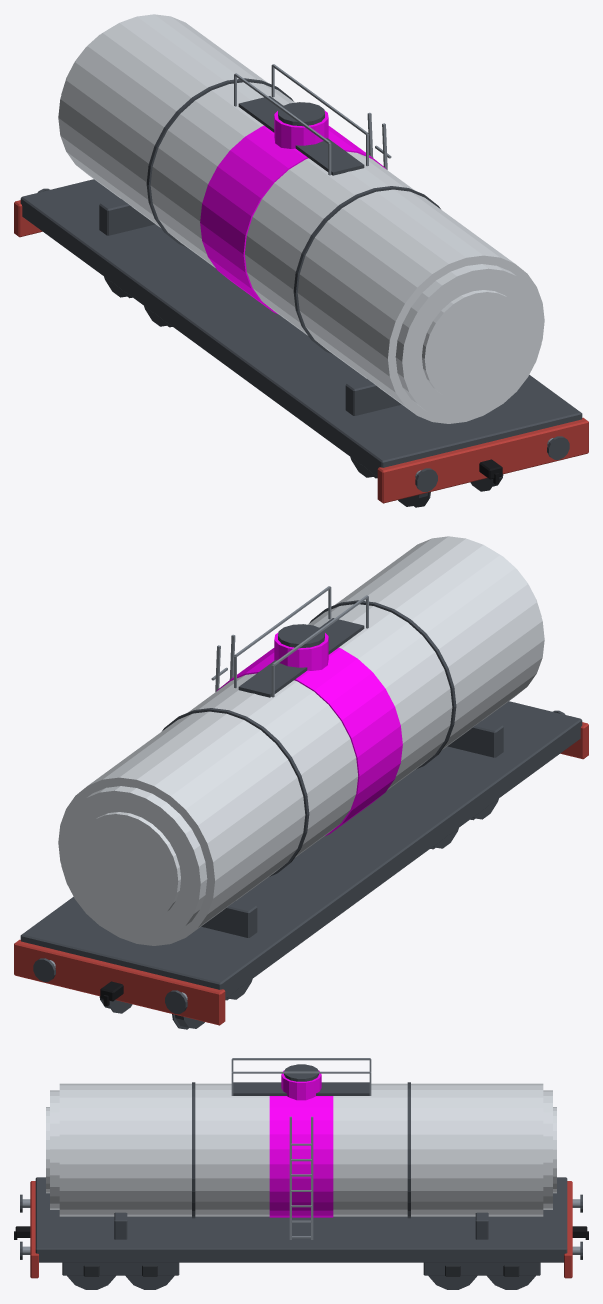
The model's file is wagon_citerne.glb.
3 renders of one model, top to bottom at view 1: azimuth 30°, elevation 25°; view 2: azimuth 150°, elevation 25°; view 3: azimuth 270°, elevation 25°, orthographic. The views are drawn at different scales.
Parts seen in each view (by area): view 1: pieces_citerne.002, pieces_acier_sombre.008, pieces_teinte.002, pieces_rouge.006, pieces_acier.008, roues_av_acier_sombre.008; view 2: pieces_citerne.002, pieces_acier_sombre.008, pieces_teinte.002, pieces_rouge.006, pieces_acier.008, roues_ar_acier_sombre.008; view 3: pieces_citerne.002, pieces_acier_sombre.008, pieces_teinte.002, pieces_acier.008, pieces_rouge.006, roues_ar_acier_sombre.008, roues_av_acier_sombre.008, pieces_fonte.008, pieces_noir.008.
Part boxes in pixels (x1,y1,x2,y2): pieces_citerne.002: (58,14,544,423); pieces_acier_sombre.008: (20,78,582,491); pieces_teinte.002: (200,111,386,313); pieces_rouge.006: (14,200,588,503); pieces_acier.008: (234,64,552,477); roues_av_acier_sombre.008: (350,457,503,507); pieces_citerne.002: (58,536,544,945); pieces_acier_sombre.008: (20,600,582,1013); pieces_teinte.002: (216,633,402,835); pieces_rouge.006: (14,722,588,1025); pieces_acier.008: (50,586,368,999); roues_ar_acier_sombre.008: (99,979,252,1029); pieces_citerne.002: (46,1083,556,1216); pieces_acier_sombre.008: (20,1064,582,1275); pieces_teinte.002: (269,1070,333,1217); pieces_acier.008: (22,1058,580,1254); pieces_rouge.006: (30,1181,572,1278); roues_ar_acier_sombre.008: (428,1275,535,1289); roues_av_acier_sombre.008: (67,1275,174,1289); pieces_fonte.008: (83,1265,519,1276); pieces_noir.008: (14,1226,588,1239).
Size of the model in its own units: 1.65 by 2.2 by 5.41.
